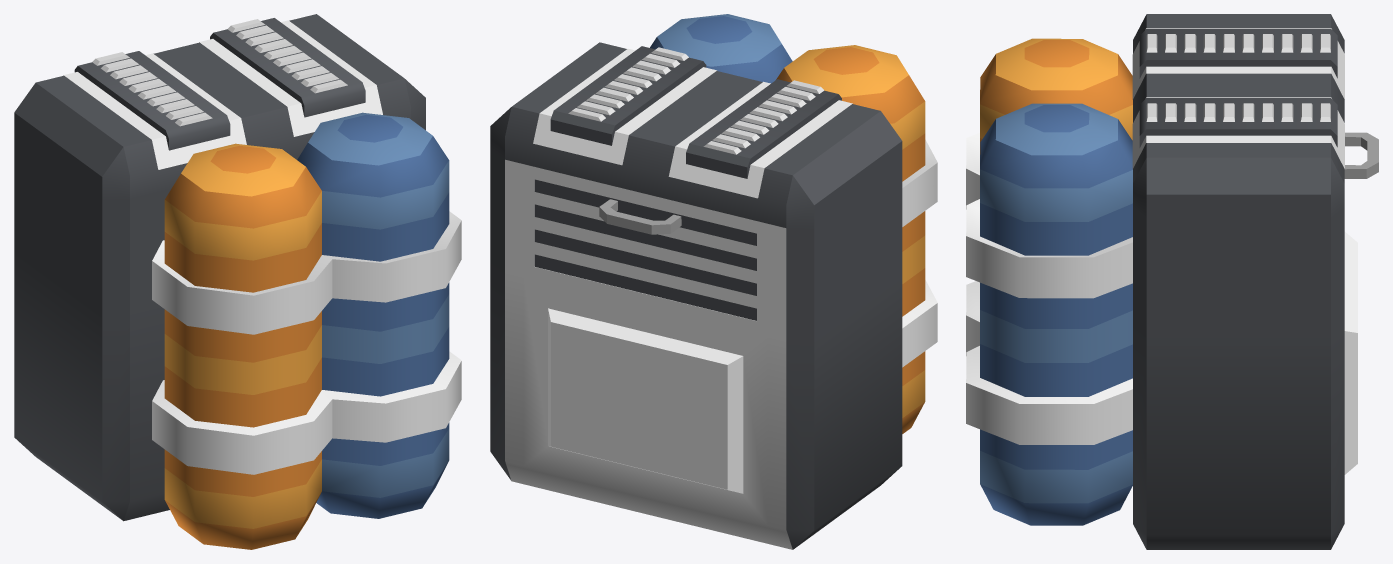
File: TankStorageUnit.fbx
The picture shows the model from 3 angles, left to right: view 1: azimuth 30°, elevation 25°; view 2: azimuth 150°, elevation 25°; view 3: azimuth 270°, elevation 25°; orthographic projection. The views are drawn at different scales.
Parts seen in each view (by area): view 1: TankStorageUnit; view 2: TankStorageUnit, TankStorageUnitDoor; view 3: TankStorageUnit, TankStorageUnitDoor.
Boxes of the visible parts, left/top/right/bottom form: TankStorageUnit: left=14, top=14, right=461, bottom=549; TankStorageUnit: left=490, top=14, right=937, bottom=549; TankStorageUnitDoor: left=534, top=179, right=756, bottom=320; TankStorageUnit: left=966, top=14, right=1357, bottom=549; TankStorageUnitDoor: left=1344, top=132, right=1378, bottom=178.
Bounding box in the file's own units: 0.9228 × 1.05 × 0.9719.
